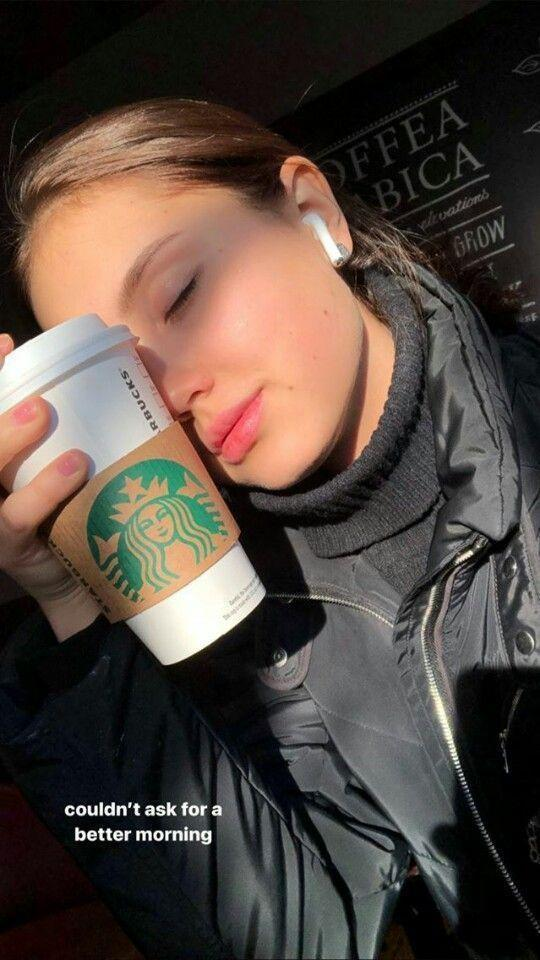cup-disposable: (1, 311, 266, 666)
